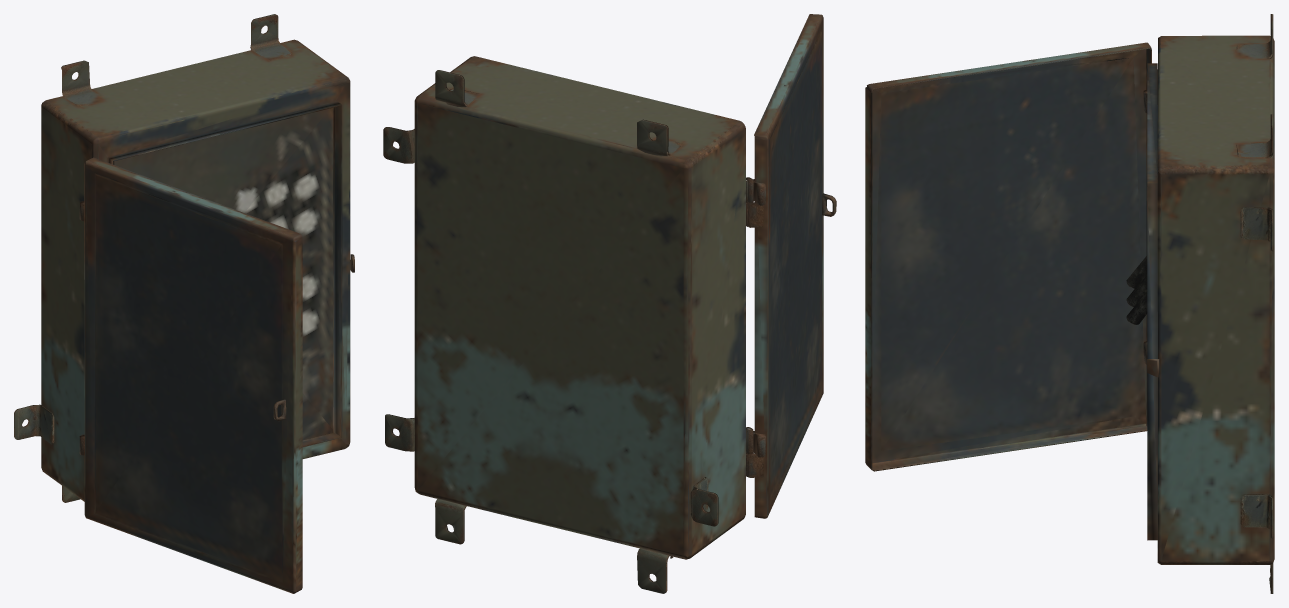
Rendered from silo81_switchboard.glb.
The picture shows the model from 3 angles, left to right: view 1: azimuth 30°, elevation 25°; view 2: azimuth 150°, elevation 25°; view 3: azimuth 270°, elevation 25°; orthographic projection. The views are drawn at different scales.
Bounding box in the file's own units: 0.71 × 0.9517 × 0.7534.
1 material, 1 textured.
